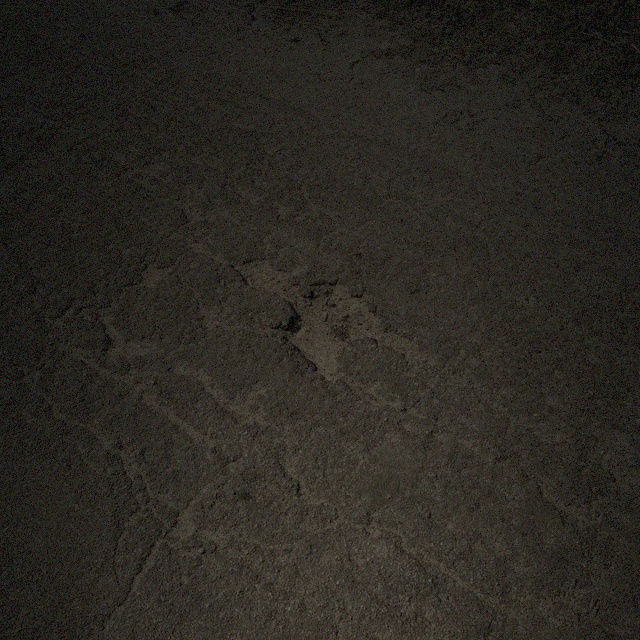pothole: (230, 255, 422, 381)
